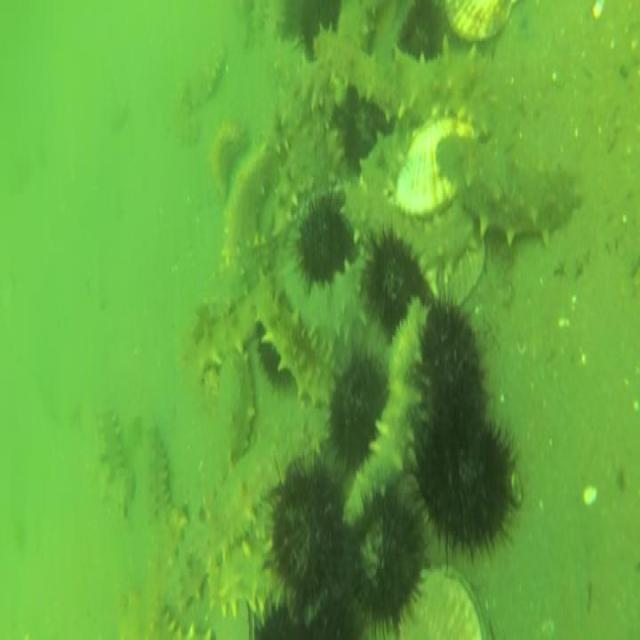echinus: (419, 410, 513, 560), (268, 452, 346, 604), (347, 487, 423, 622), (418, 299, 484, 422), (327, 348, 387, 468), (361, 234, 426, 335), (295, 196, 355, 284), (337, 87, 379, 160), (254, 321, 295, 395), (304, 591, 364, 638), (401, 0, 441, 63), (252, 599, 312, 640)
holothurian: (172, 430, 297, 619), (312, 19, 496, 142), (342, 297, 428, 528), (436, 129, 583, 253), (339, 172, 478, 282), (254, 286, 339, 412), (218, 134, 289, 275), (279, 247, 372, 346), (187, 277, 269, 384), (200, 352, 255, 508), (270, 60, 332, 198), (205, 537, 282, 621), (116, 588, 218, 640), (333, 0, 380, 104), (92, 403, 134, 517), (260, 0, 308, 90), (204, 117, 250, 204), (142, 418, 172, 530), (188, 31, 230, 110), (298, 0, 341, 44)
scallop: (394, 116, 478, 217), (399, 561, 489, 640), (444, 0, 516, 46), (450, 238, 487, 306)
